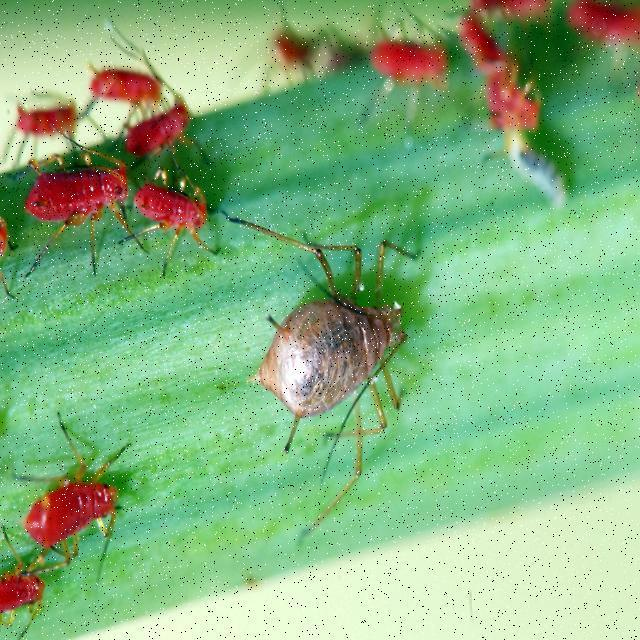Aphids: (232, 223, 432, 471)
